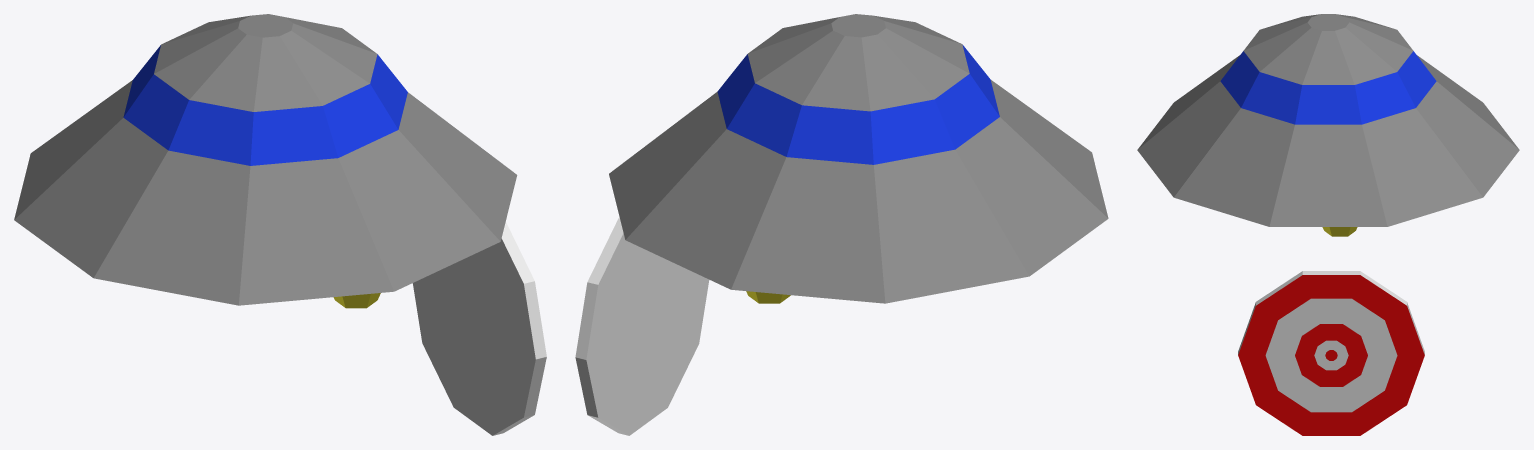
File: nave.glb
The picture shows the model from 3 angles, left to right: view 1: azimuth 30°, elevation 25°; view 2: azimuth 150°, elevation 25°; view 3: azimuth 270°, elevation 25°; orthographic projection. The views are drawn at different scales.
Parts seen in each view (by area): view 1: Cylinder, Cylinder.001; view 2: Cylinder, Cylinder.001; view 3: Cylinder, Cylinder.001.
Boxes of the visible parts, x1,y1,x2,y2 form: Cylinder: (14, 14, 517, 308); Cylinder.001: (412, 222, 546, 435); Cylinder: (609, 14, 1108, 303); Cylinder.001: (575, 218, 709, 435); Cylinder: (1137, 14, 1519, 236); Cylinder.001: (1238, 271, 1424, 435).
Bounding box in the file's own units: 1.94 × 1.92 × 2.
